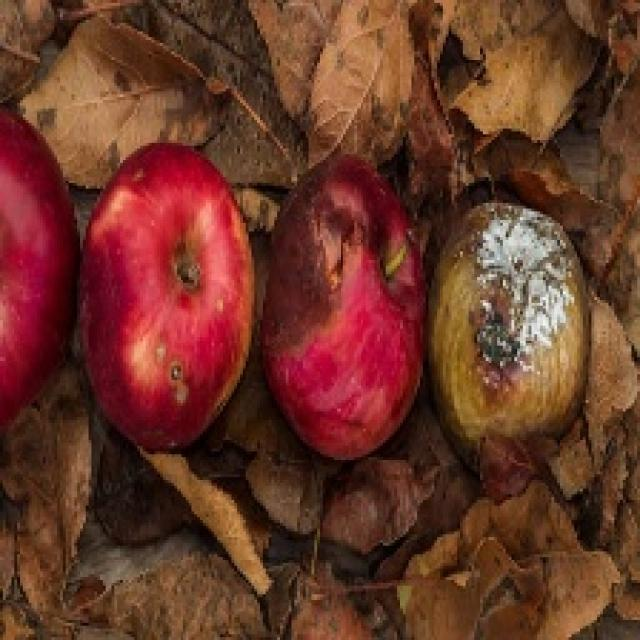rotten_apple: (268, 168, 426, 460), (431, 202, 586, 446)
